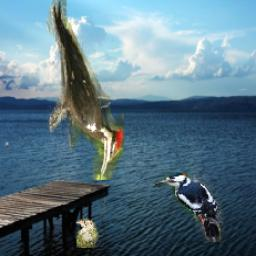Sparrow: (75, 220, 99, 249)
Woodpecker: (47, 0, 124, 181), (155, 172, 224, 242)
